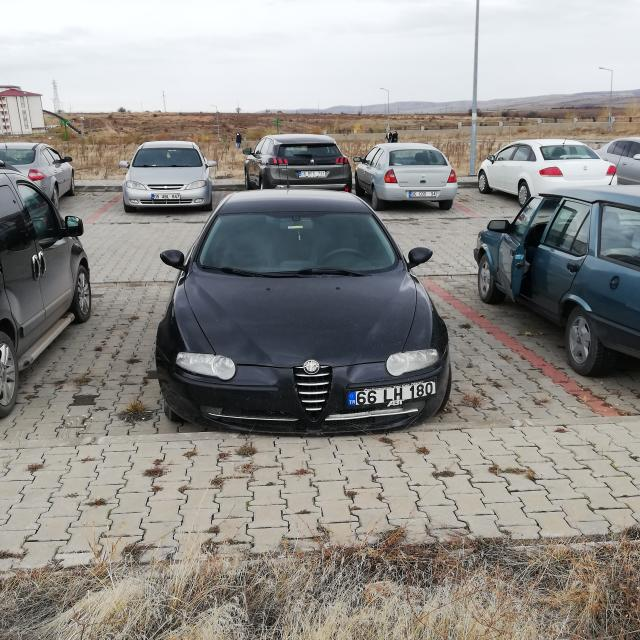license_plate: (346, 380, 436, 406), (408, 191, 436, 197), (151, 194, 180, 199), (299, 172, 325, 176)
